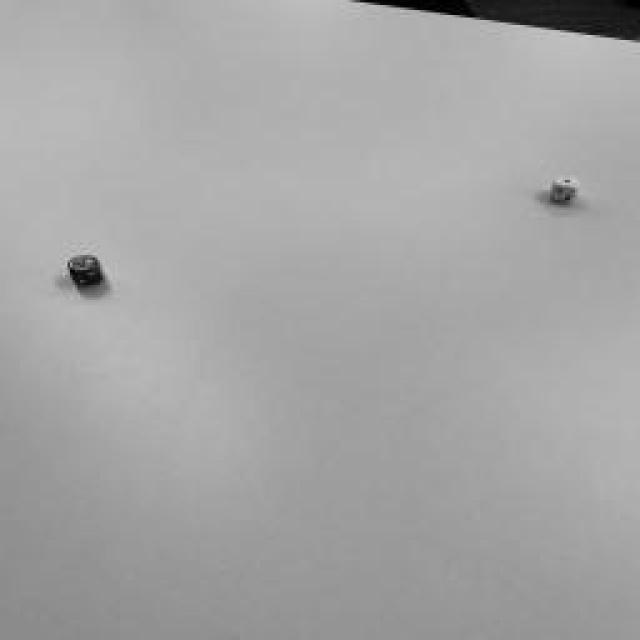dice_1: (554, 176, 581, 189)
dice_4: (68, 255, 98, 270)
